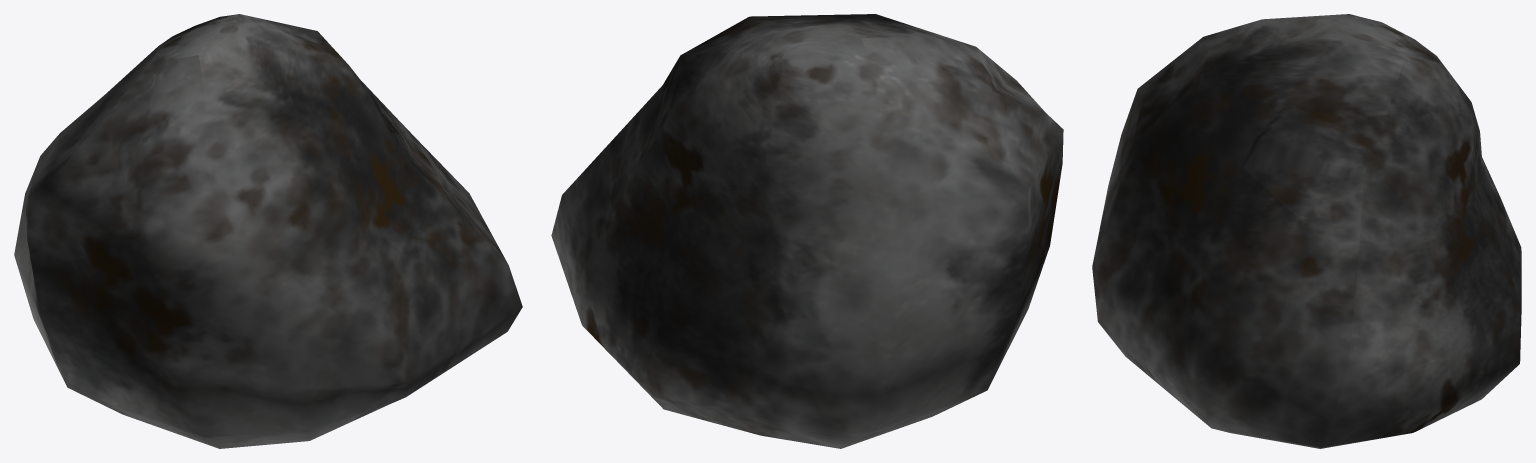
The model's file is Obstacles_Asteroid_001.fbx.
3 views of the same model, side by side, from view 1: azimuth 30°, elevation 25°; view 2: azimuth 150°, elevation 25°; view 3: azimuth 270°, elevation 25° (orthographic). The views are drawn at different scales.
Visible parts, largest first — view 1: Asteroid_1; view 2: Asteroid_1; view 3: Asteroid_1.
Part boxes in pixels (x1,y1,x2,y2): Asteroid_1: (14, 14, 522, 448); Asteroid_1: (551, 14, 1063, 448); Asteroid_1: (1092, 14, 1521, 448).
Bounding box in the file's own units: 1.7 × 1.27 × 1.37.
